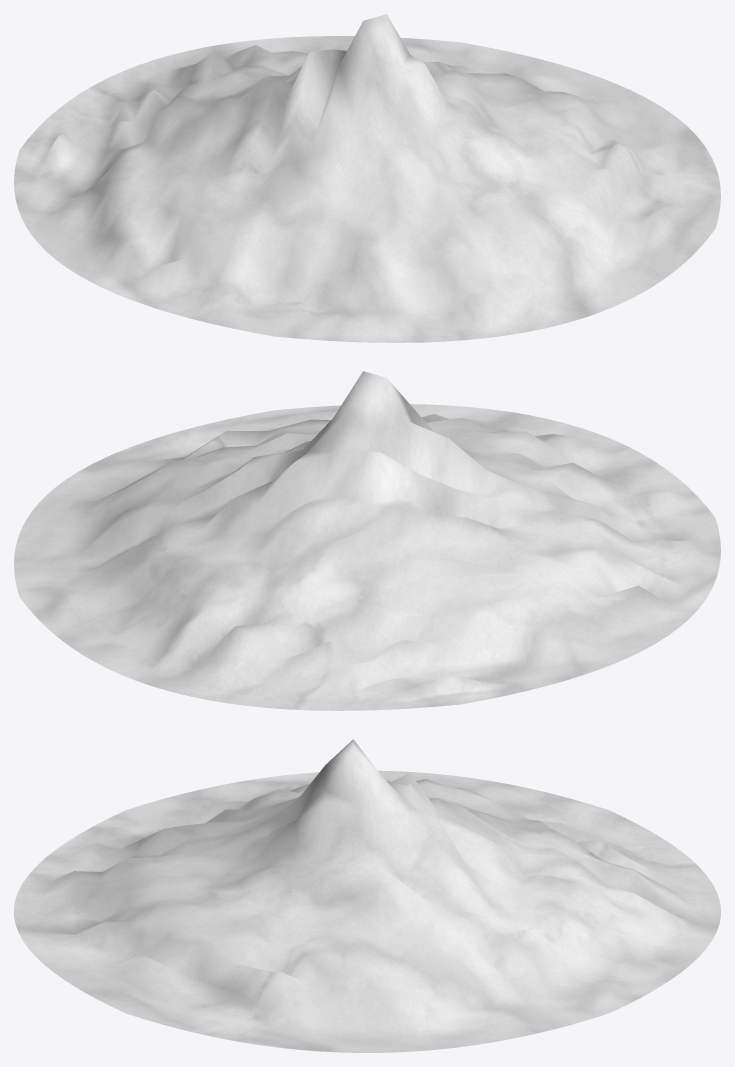
The model's file is Mount01.FBX.
The picture shows the model from 3 angles, top to bottom: view 1: azimuth 30°, elevation 25°; view 2: azimuth 150°, elevation 25°; view 3: azimuth 270°, elevation 25°; orthographic projection. The views are drawn at different scales.
Visible parts, largest first — view 1: Mount01; view 2: Mount01; view 3: Mount01.
Boxes of the visible parts, <box> form: Mount01: <box>14,14,720,342</box>; Mount01: <box>14,371,720,710</box>; Mount01: <box>14,739,720,1052</box>.
Bounding box in the file's own units: 358 × 99.6 × 379.
